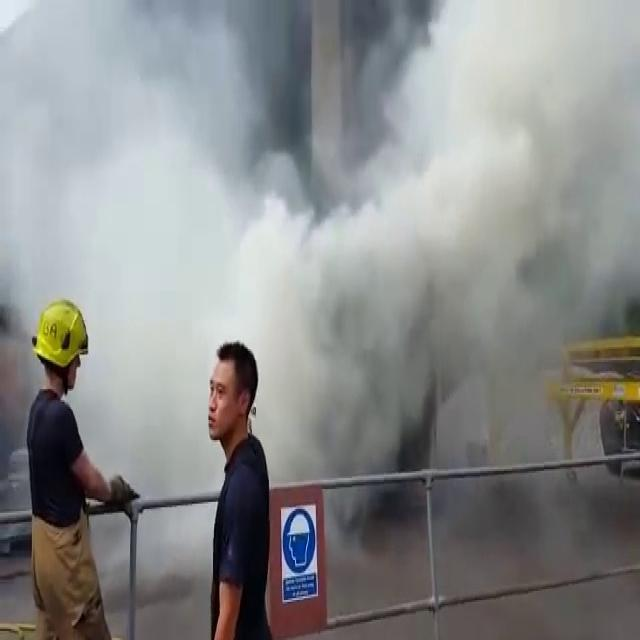Smoke: (16, 26, 640, 470)
